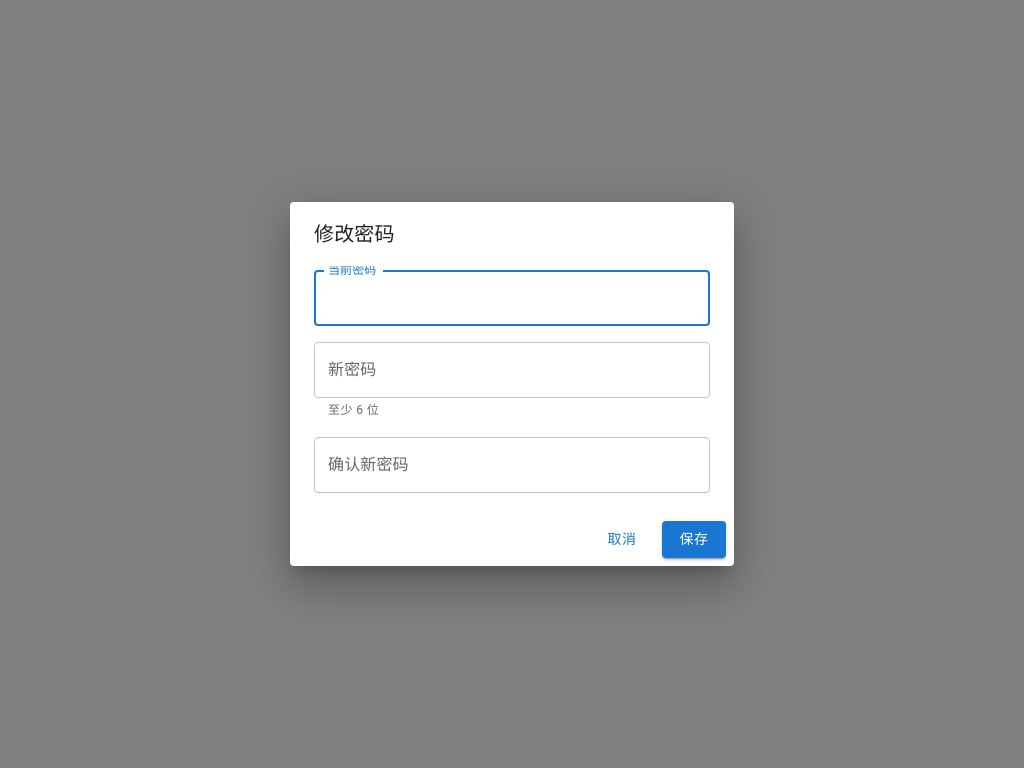
Test: ChangePasswordDialog › 当前密码错误由后端判定，原样展示且不关闭
The image size is (1024, 768).
Type "猜的" into the password field labelled "当前密码" at point(512, 298), box [314,270,710,326]
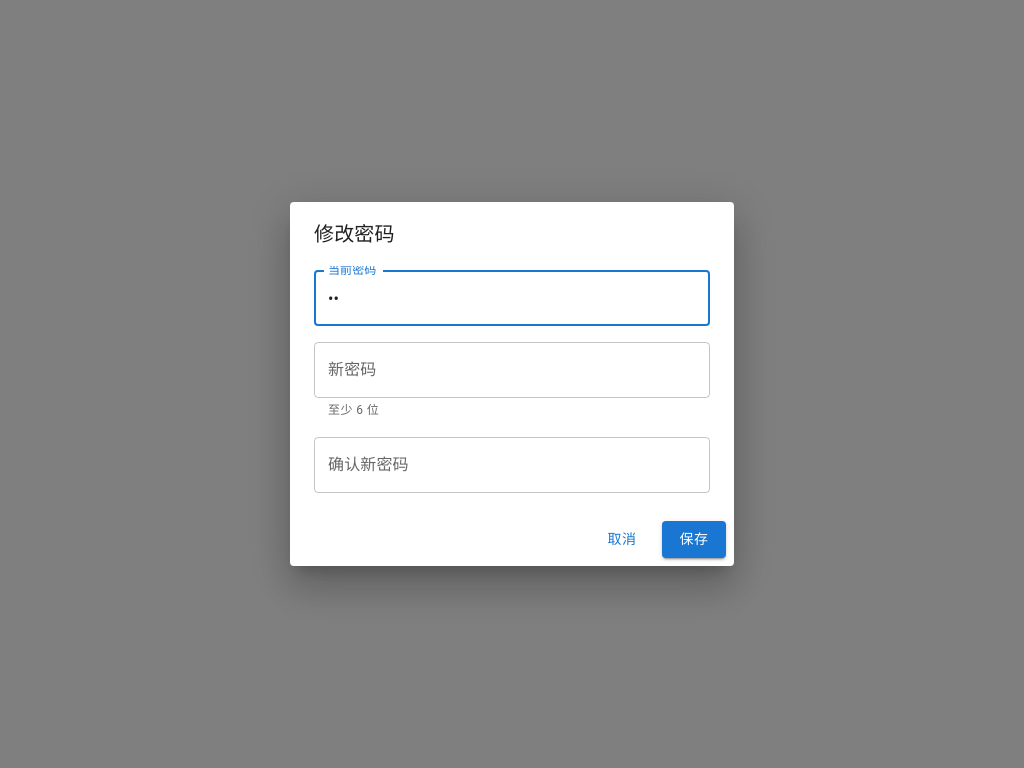
Type "new5678" into the password field labelled "新密码" at point(512, 370), box [314,342,710,398]
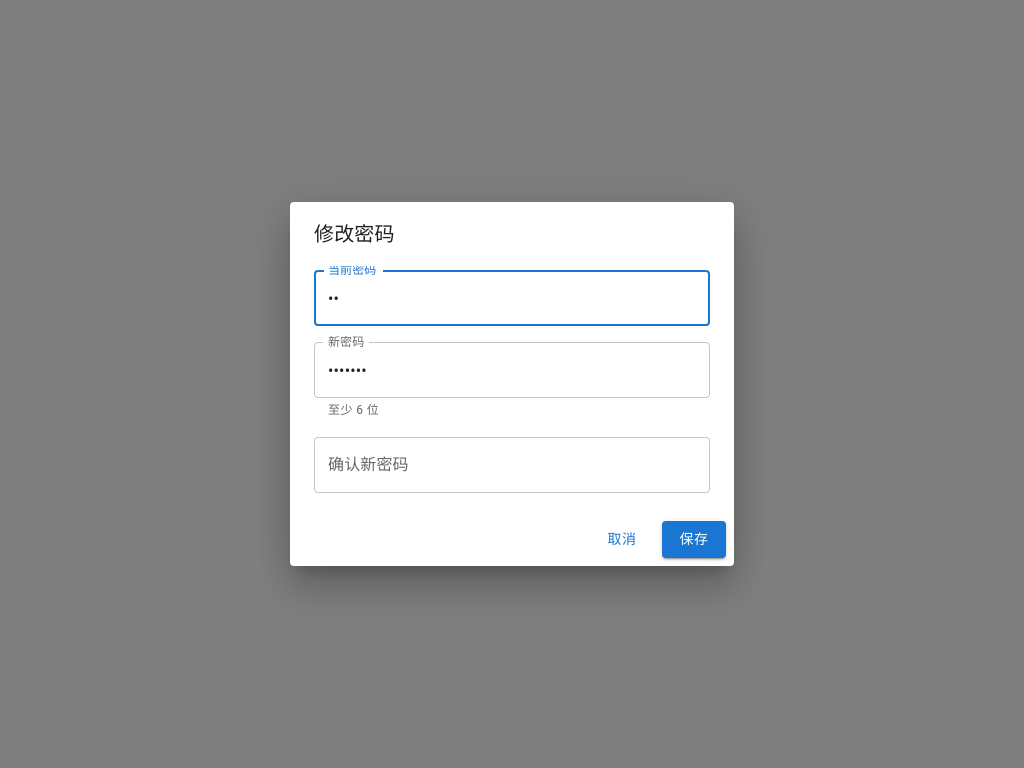
Type "new5678" into the password field labelled "确认新密码" at point(512, 465), box [314,437,710,493]
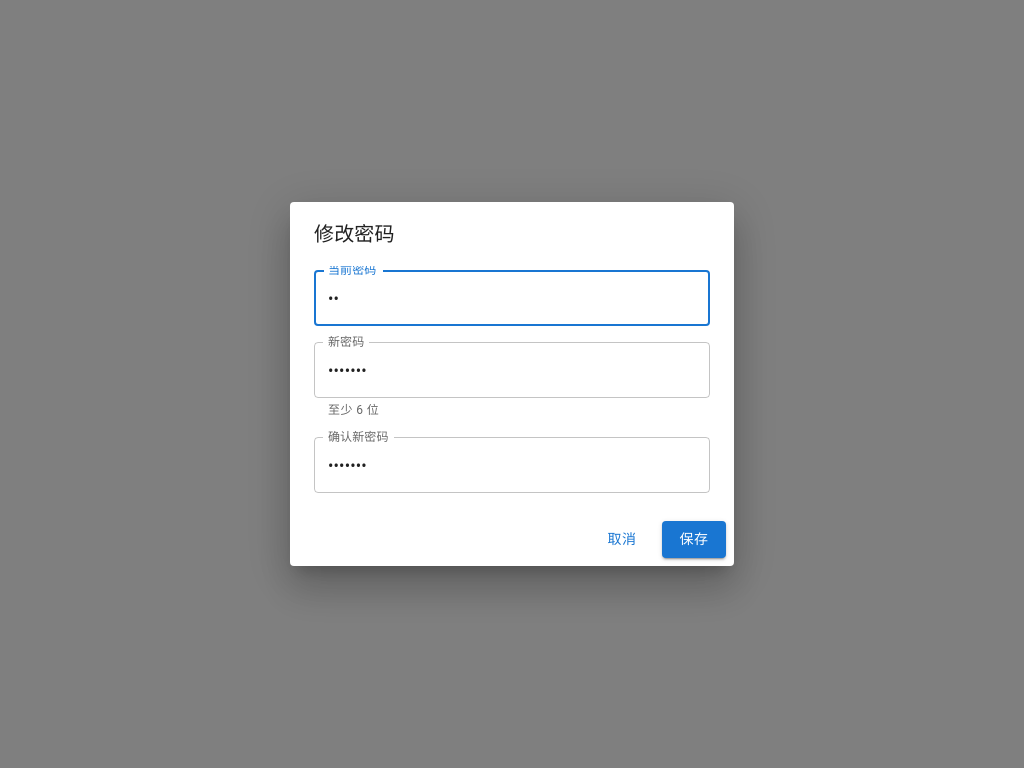
Click the button "保存" at point(694, 539), box [662,521,726,558]
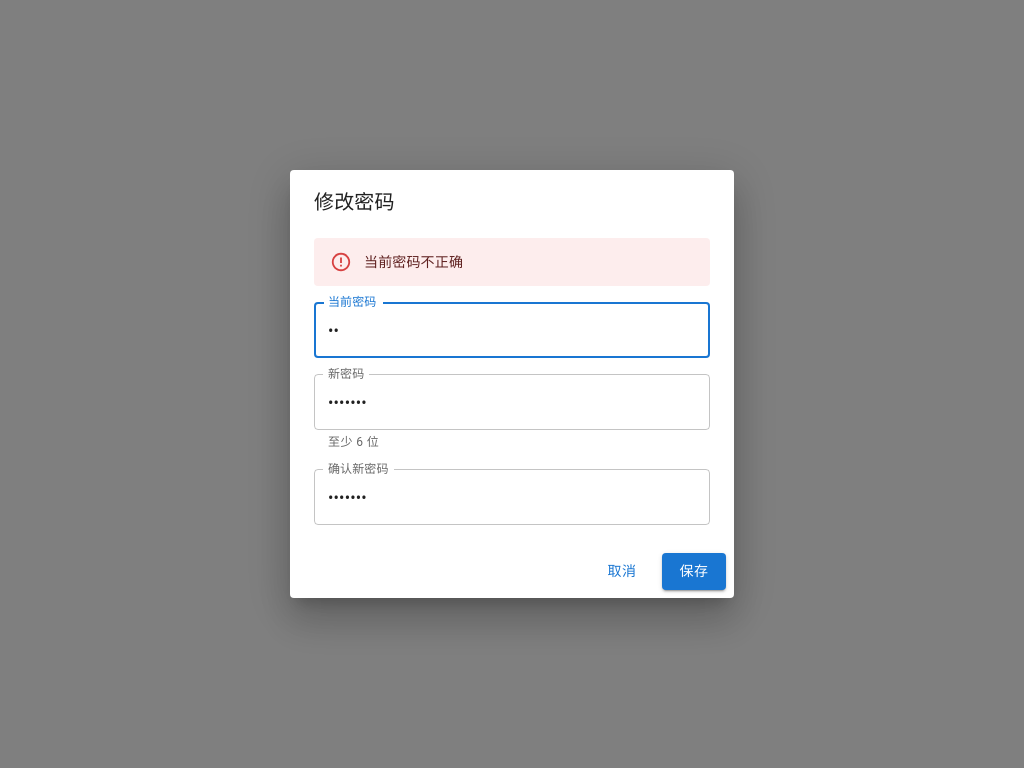
Expected: the text "当前密码不正确" is shown, [364,254,463,270]
